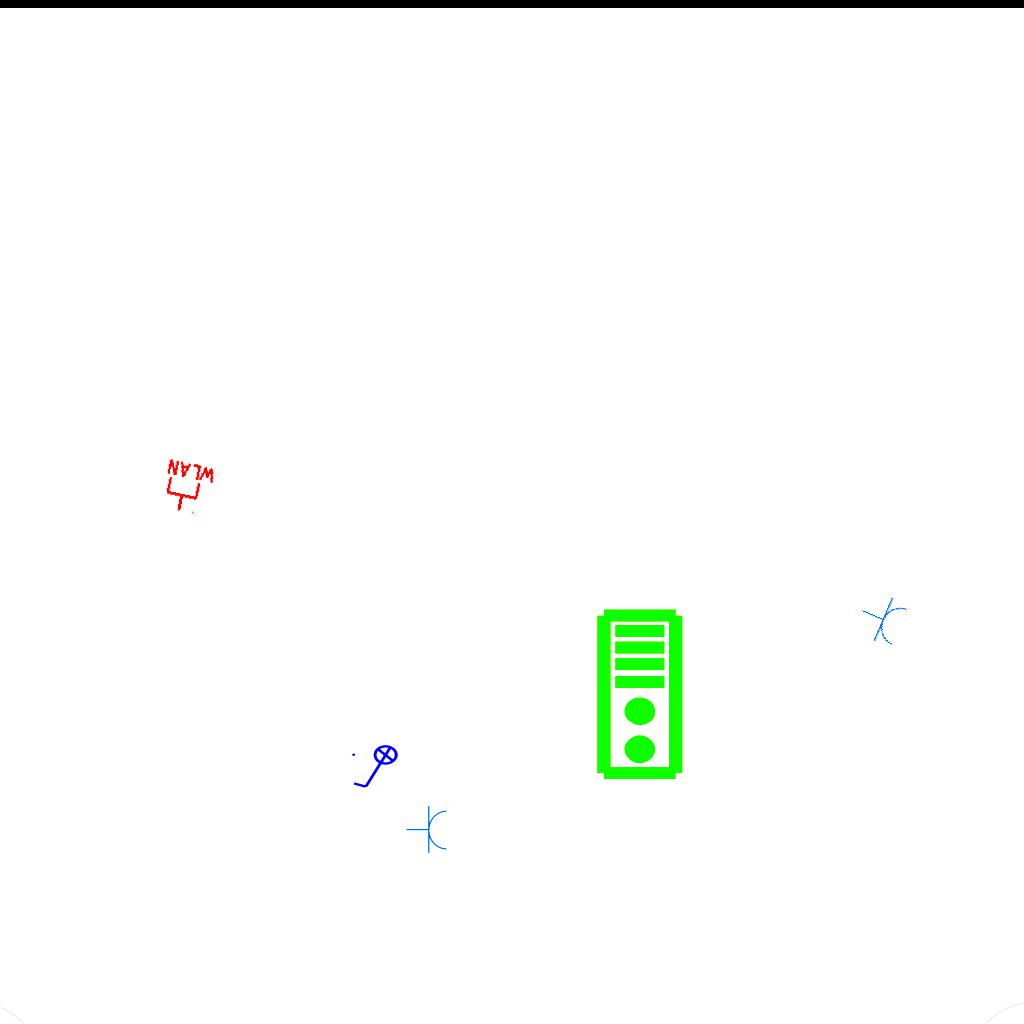Ausschalter_beleuchtet: (349, 744, 405, 792)
Gegensprechanlage_mit_Video: (594, 607, 689, 783)
Schukosteckdose_einfach: (852, 588, 912, 651), (406, 805, 449, 855)
WLAN: (157, 457, 219, 519)
